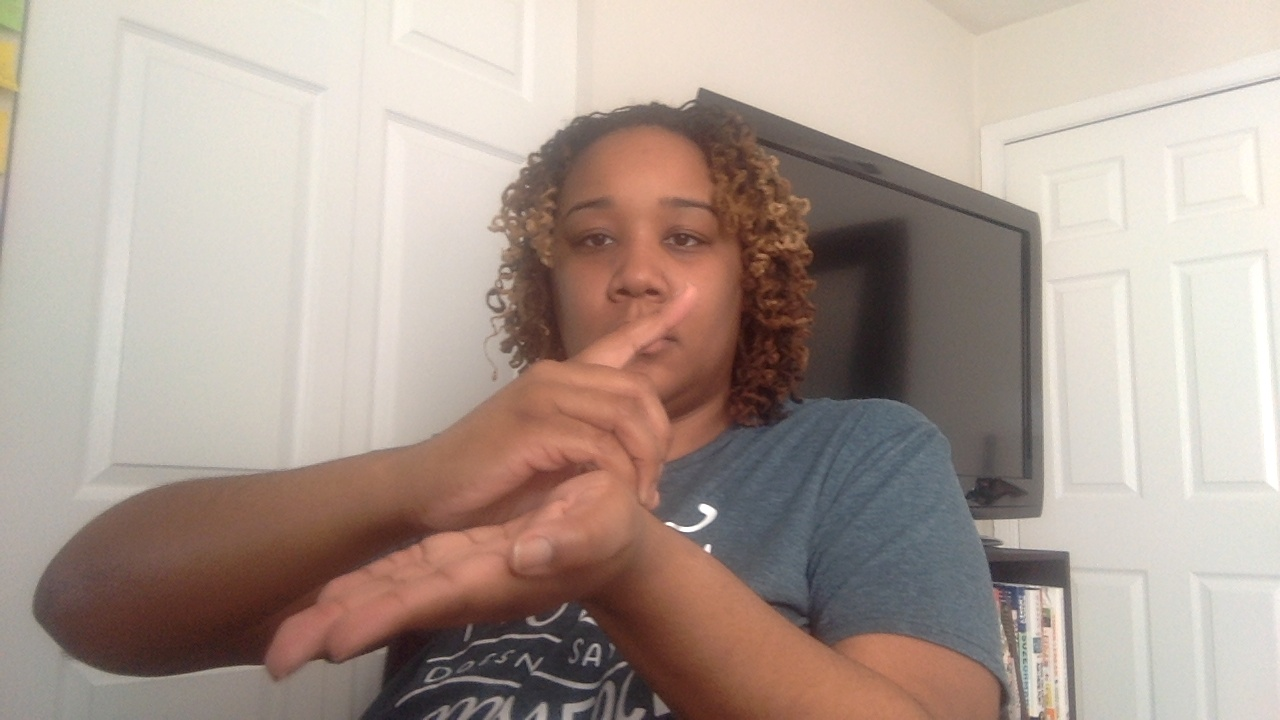doctor: (265, 280, 695, 686)
